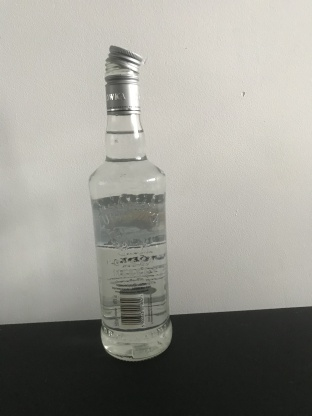nakretka: (103, 42, 143, 116)
